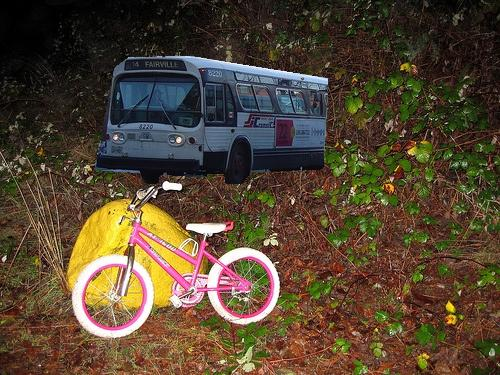tampered: (95, 57, 328, 184)
